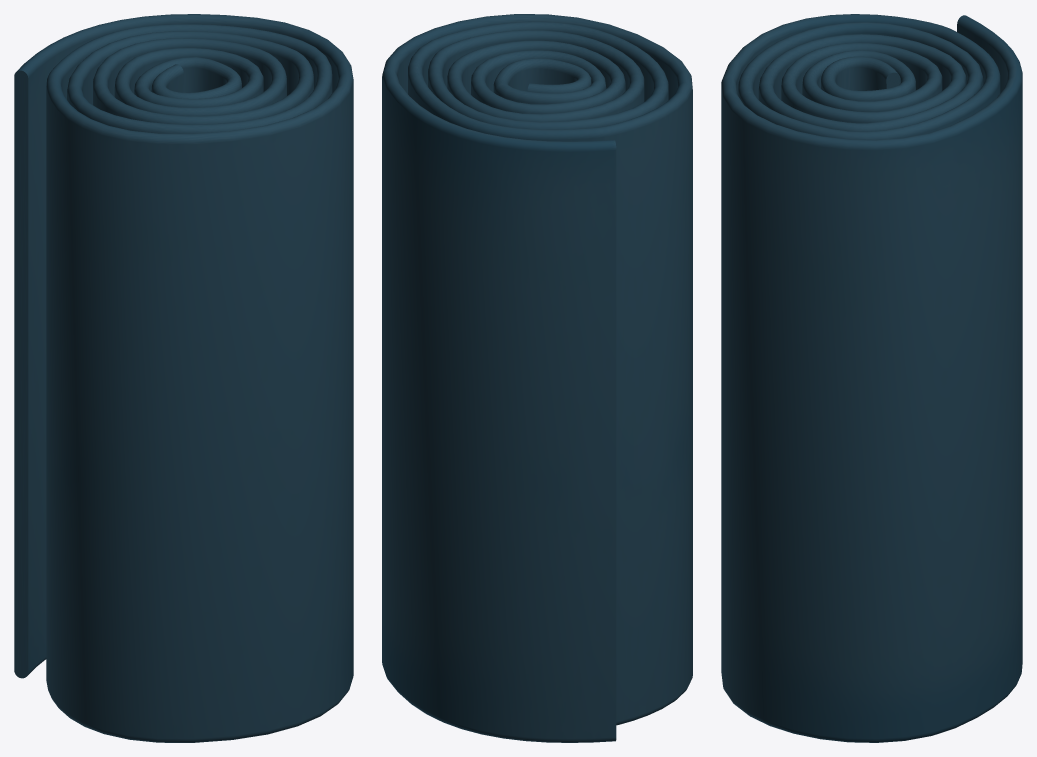
File: rolledupmat.fbx
3 renders of one model, left to right at view 1: azimuth 30°, elevation 25°; view 2: azimuth 150°, elevation 25°; view 3: azimuth 270°, elevation 25°, orthographic.
Parts seen in each view (by area): view 1: BezierCurve; view 2: BezierCurve; view 3: BezierCurve.
Boxes of the visible parts, <box> form: BezierCurve: <box>14,14,353,742</box>; BezierCurve: <box>382,14,692,742</box>; BezierCurve: <box>721,14,1022,742</box>.
Size of the model in its own units: 254 by 540 by 244.
Materials: 1 (1 with a texture image).
